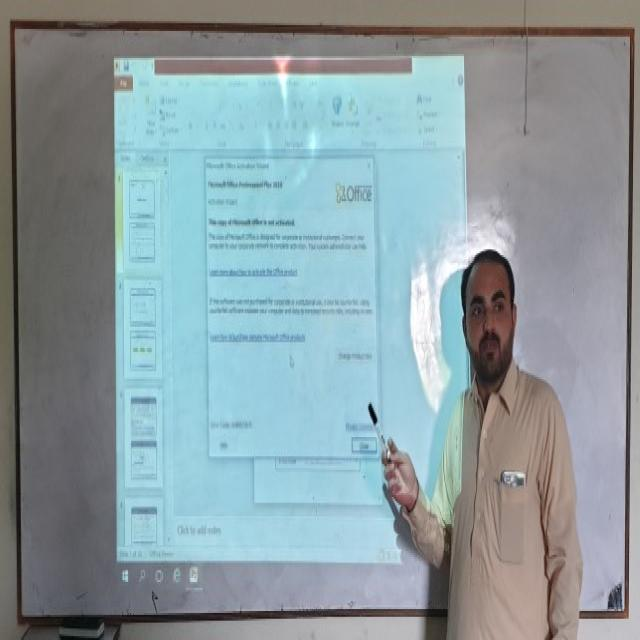Instructor: (439, 262, 560, 631)
Slide: (115, 50, 472, 590)
White-board: (13, 21, 630, 620)
